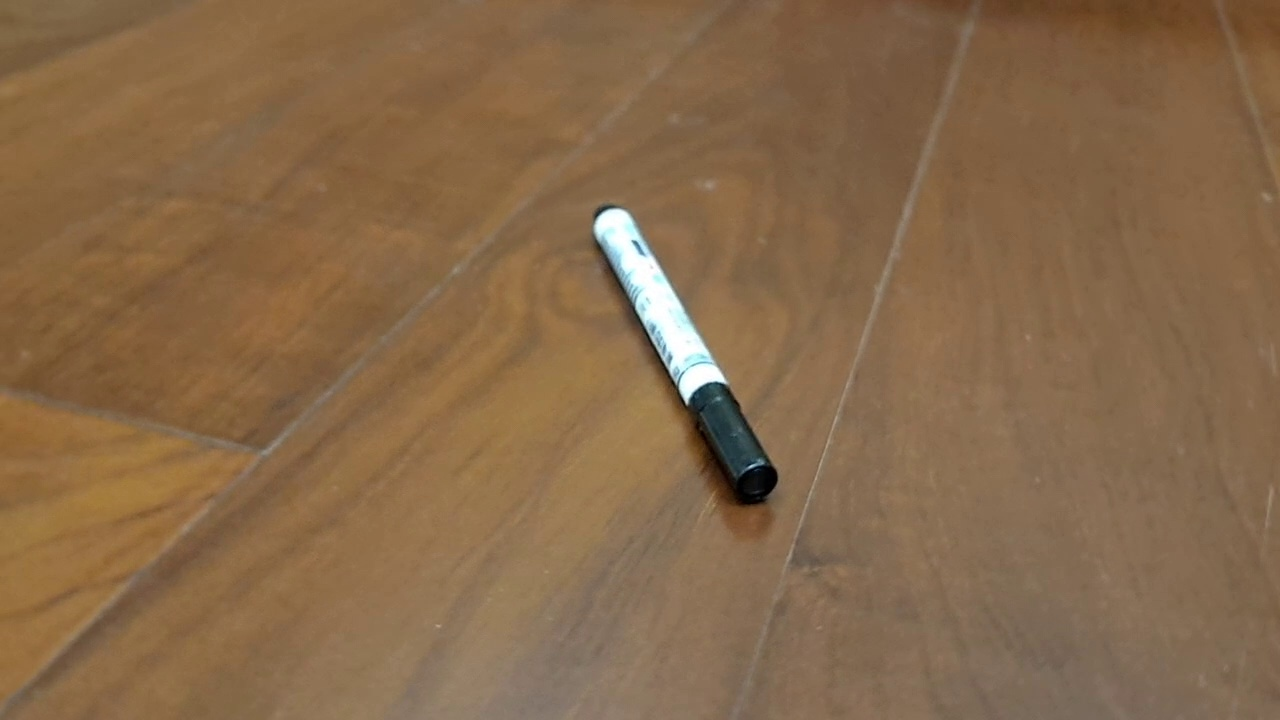pen: (591, 201, 779, 506)
